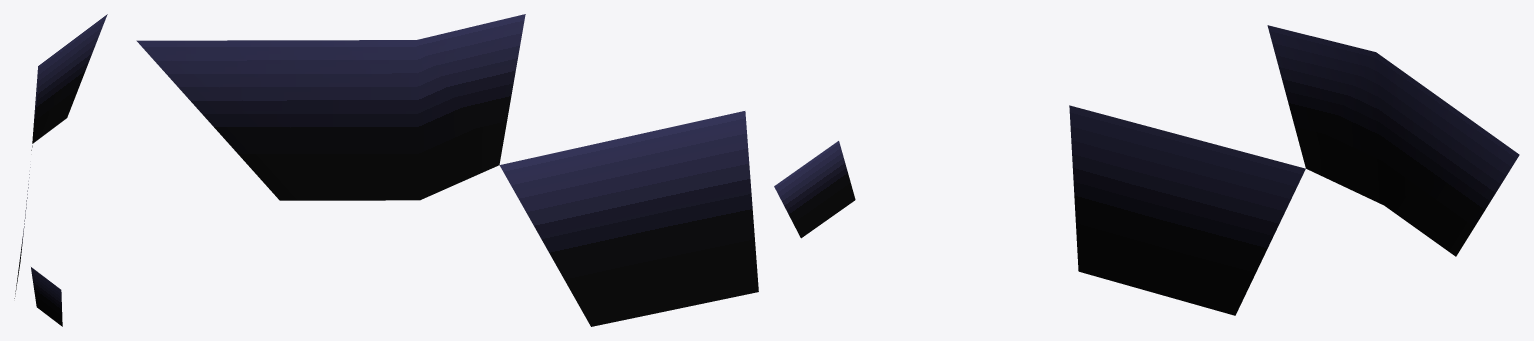
3 views of the same model, side by side, from view 1: azimuth 30°, elevation 25°; view 2: azimuth 150°, elevation 25°; view 3: azimuth 270°, elevation 25° (orthographic). The views are drawn at different scales.
Parts seen in each view (by area): view 1: Joint_0_Object_0; view 2: Joint_0_Object_0; view 3: Joint_0_Object_0.
Part boxes in pixels (x1,y1,x2,y2): Joint_0_Object_0: (14, 14, 107, 326); Joint_0_Object_0: (136, 14, 855, 326); Joint_0_Object_0: (1069, 25, 1519, 315).
Bounding box in the file's own units: 365 × 270 × 493.
Materials: 1 (1 with a texture image).
